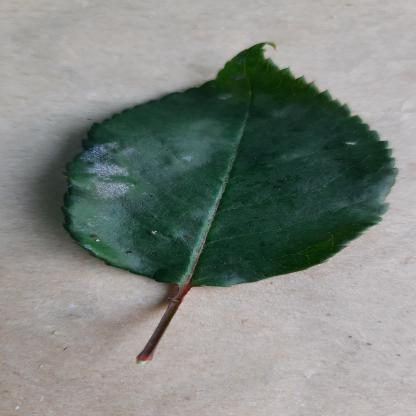powdery-mildew: (51, 44, 398, 290)
